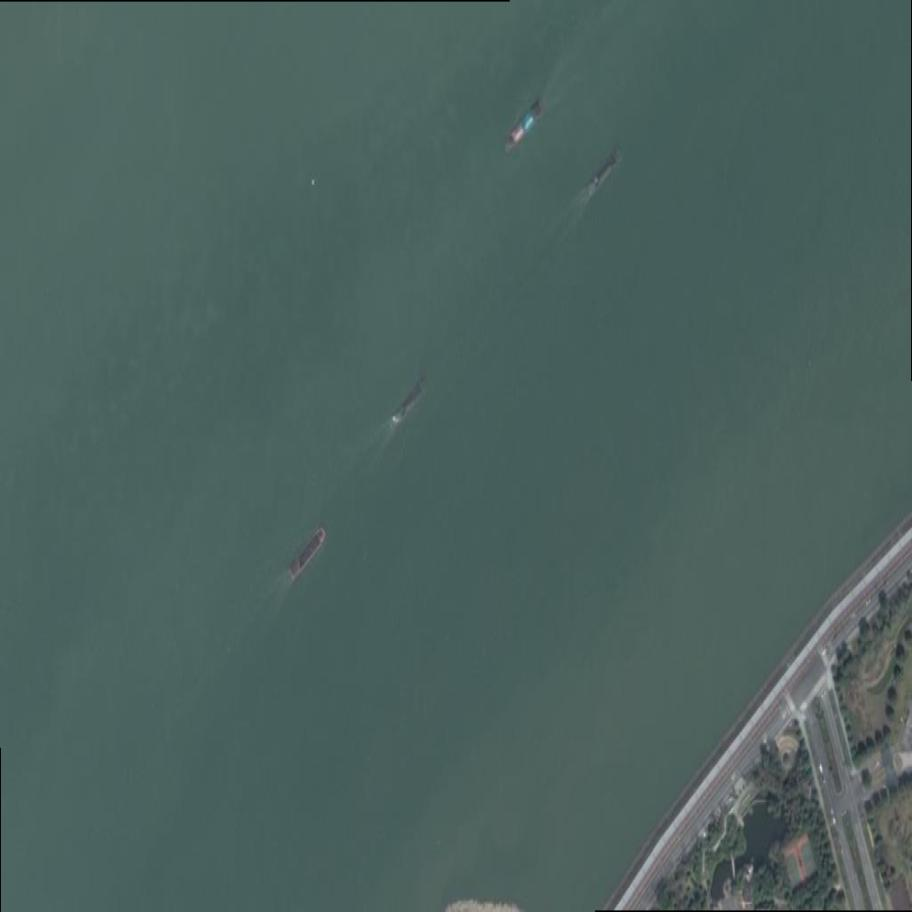ship: (281, 522, 332, 584), (498, 96, 550, 154), (581, 143, 630, 199), (388, 376, 431, 425)
